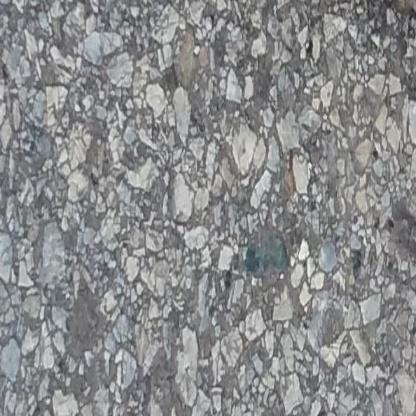Cracks: (309, 0, 416, 33)
